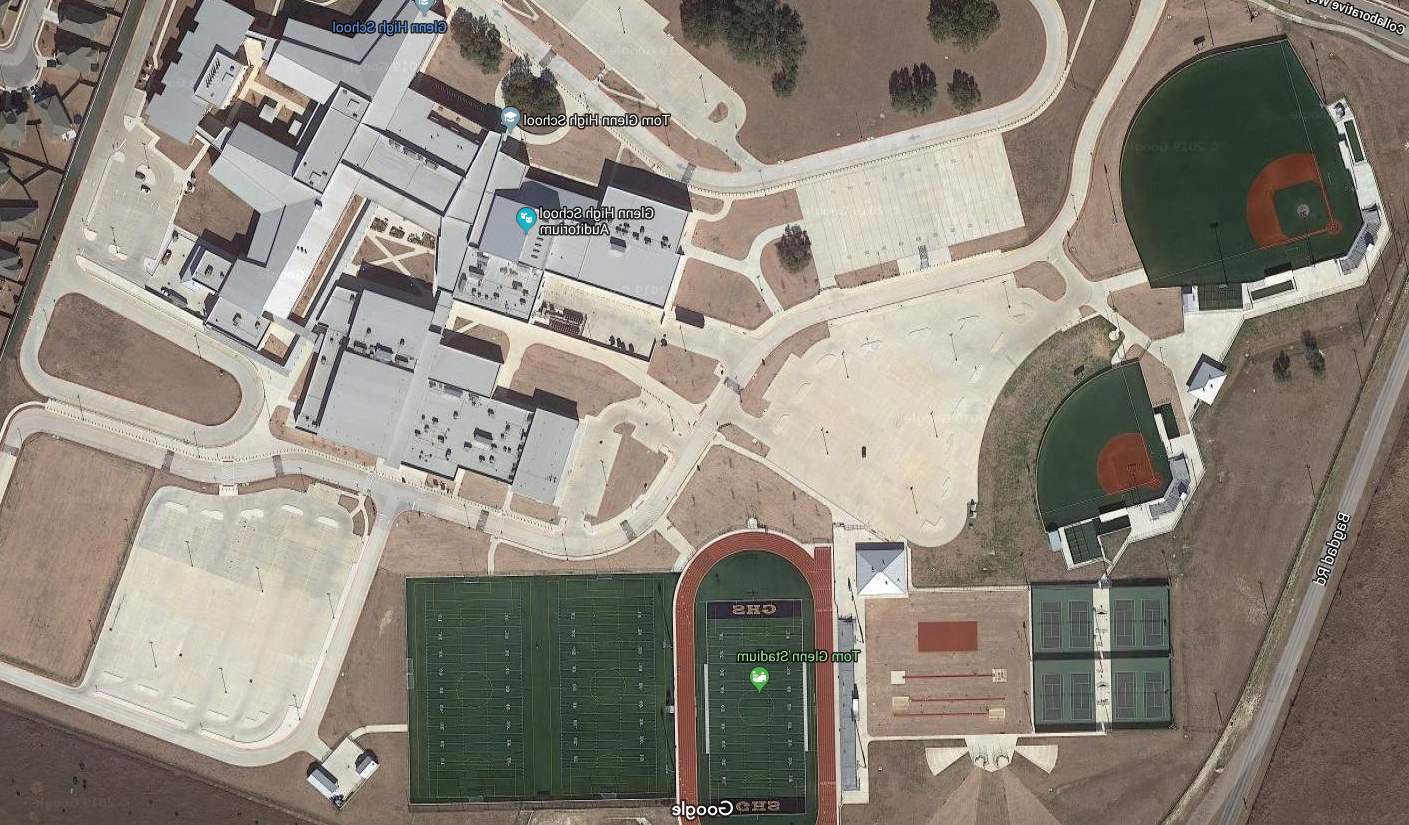baseball: (1092, 42, 1398, 288), (992, 335, 1217, 535)
football: (681, 514, 869, 818), (396, 578, 530, 795), (547, 580, 664, 805)
